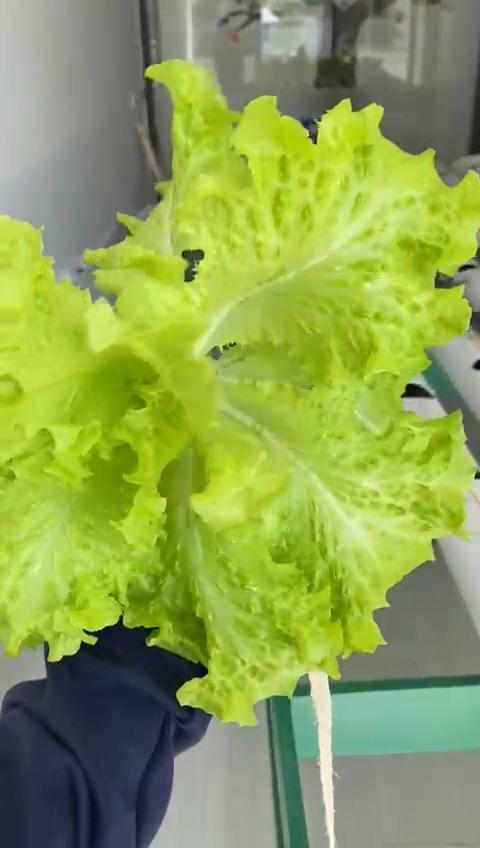Healthy Lettuce: (0, 55, 480, 730)
